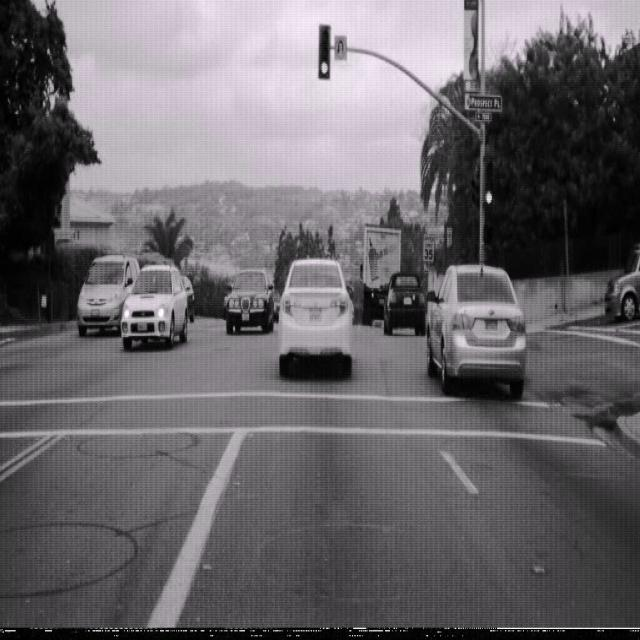speedLimit35: (422, 230, 435, 264)
